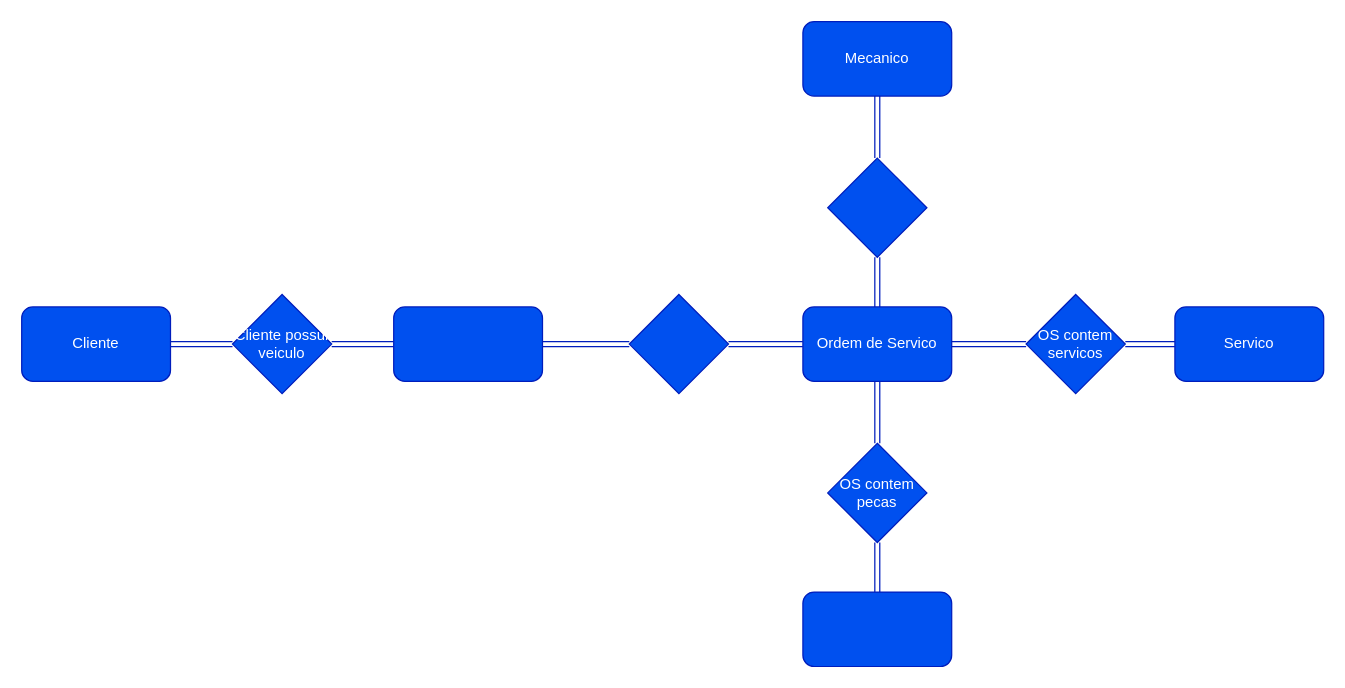
The diagram is 1345 pixels wide and 688 high, and some of its shapes have lost their labels. The shapes that lost their labels are listed below. From the top down, each one's centre as x and y in pixels, then its label:
At (x=876, y=207): "Mecanico participa de OS".
At (x=467, y=343): "Veiculo".
At (x=678, y=343): "Veiculo relacionado com OS".
At (x=877, y=628): "Peca".
